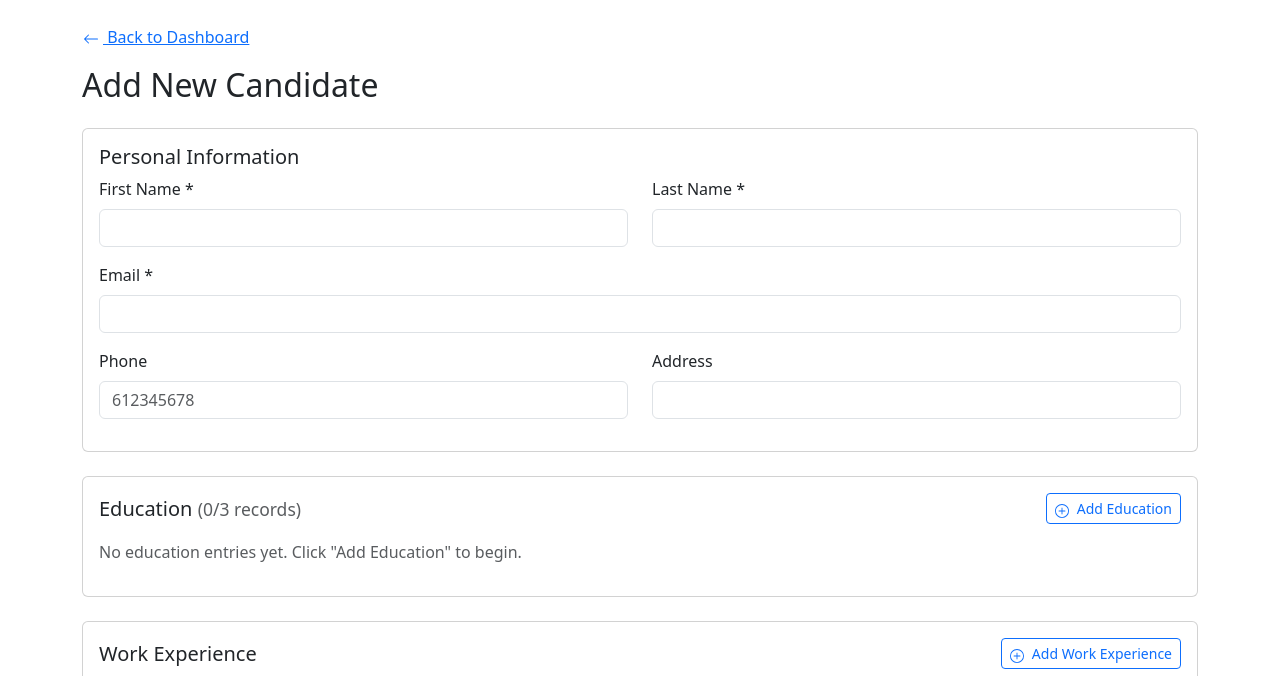
Add Candidate Feature › Add Candidate Form - Education Management › should remove an education entry when Remove is clicked
The width and height of the screenshot is (1280, 676).
Click the button with test id "add-education-btn" at (1114, 509), box [1046,493,1181,524]
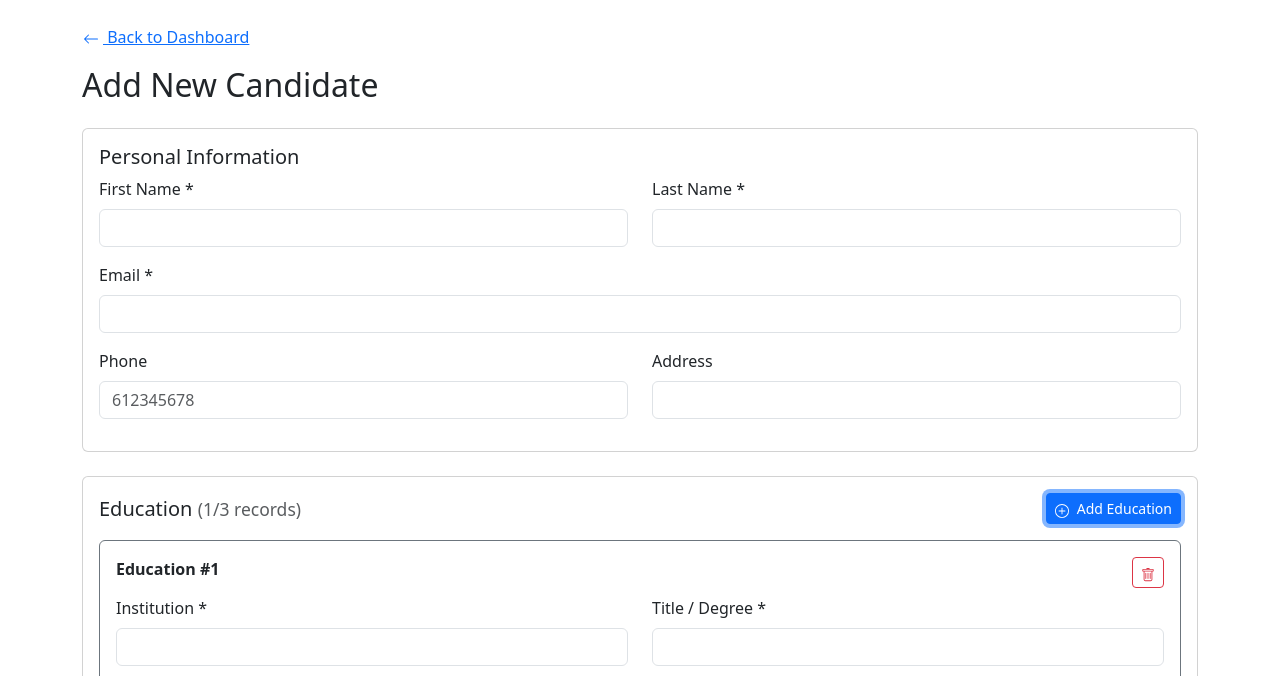
Expected: the field with test id "education-institution-0" is shown, [116,628,628,666]
Click the button with test id "remove-education-0" at (1148, 573), box [1132,557,1164,588]
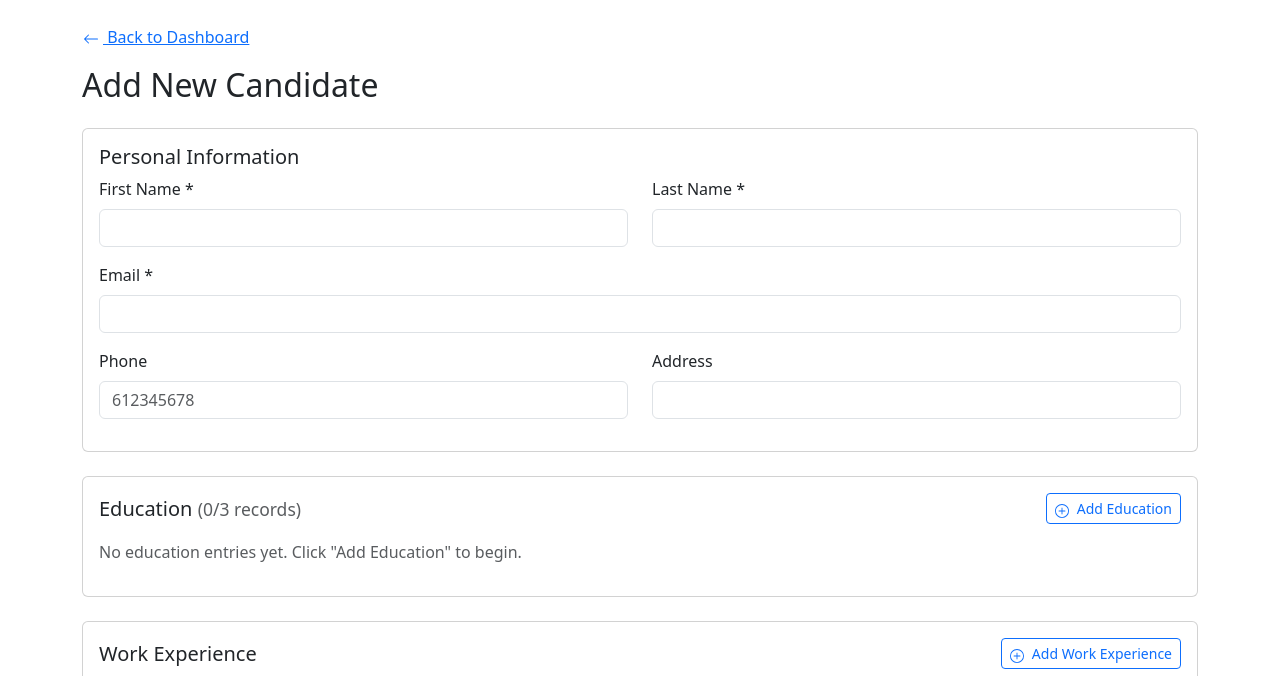
Expected: the field with test id "education-institution-0" is gone
